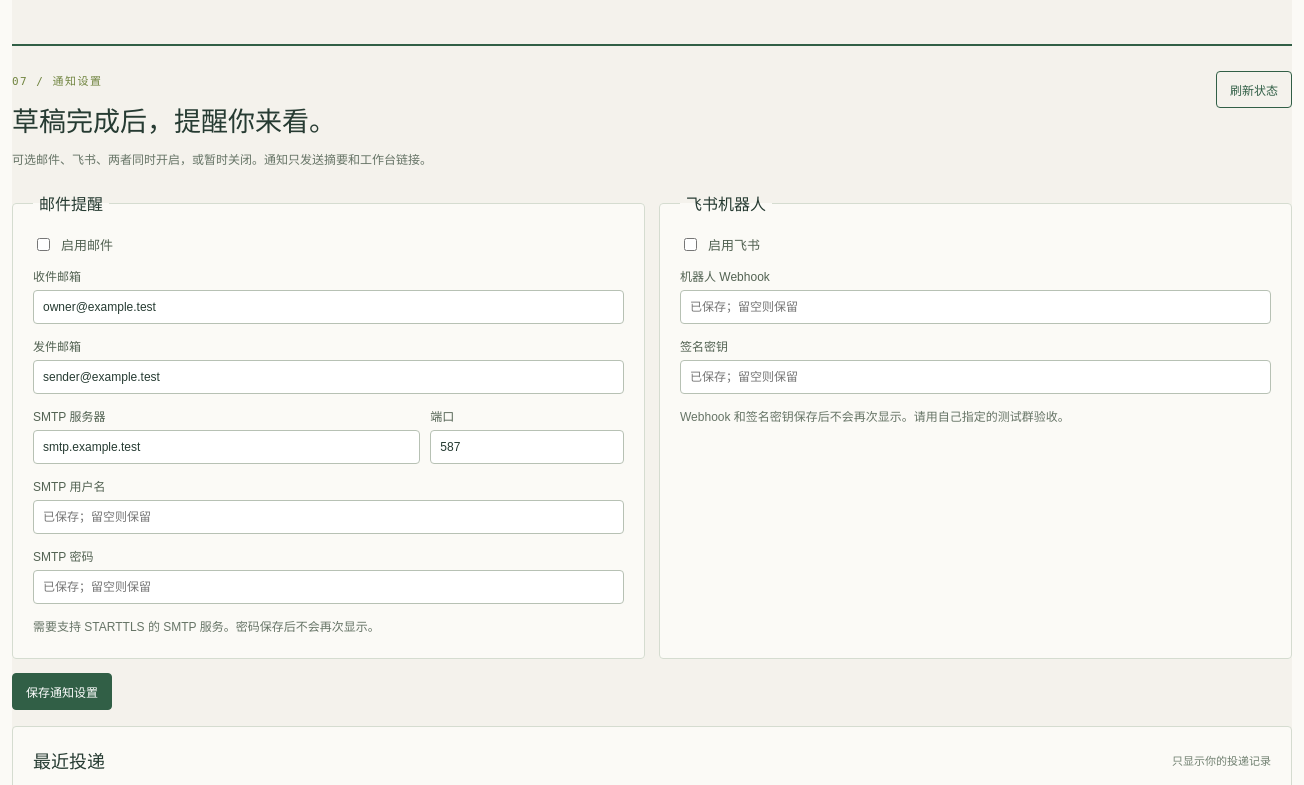
Test: notification settings › preserves existing credentials when blank and clears new secrets after saving
Step 1. Click the checkbox labelled "启用邮件" → click(44, 245), box top-left (37, 238), bottom-right (50, 251)
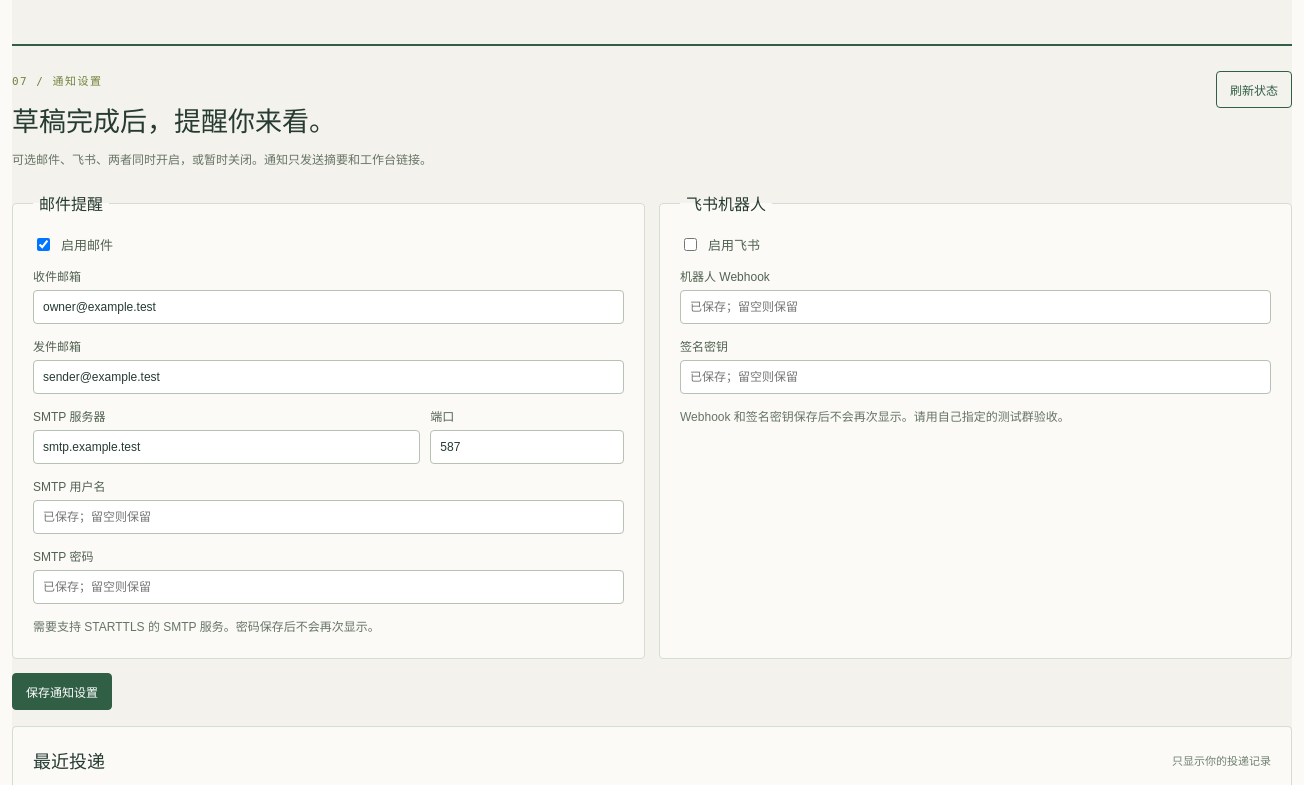
Step 2. Type "replacement-password" into the password field labelled "SMTP 密码" → (328, 587), box top-left (33, 570), bottom-right (624, 604)
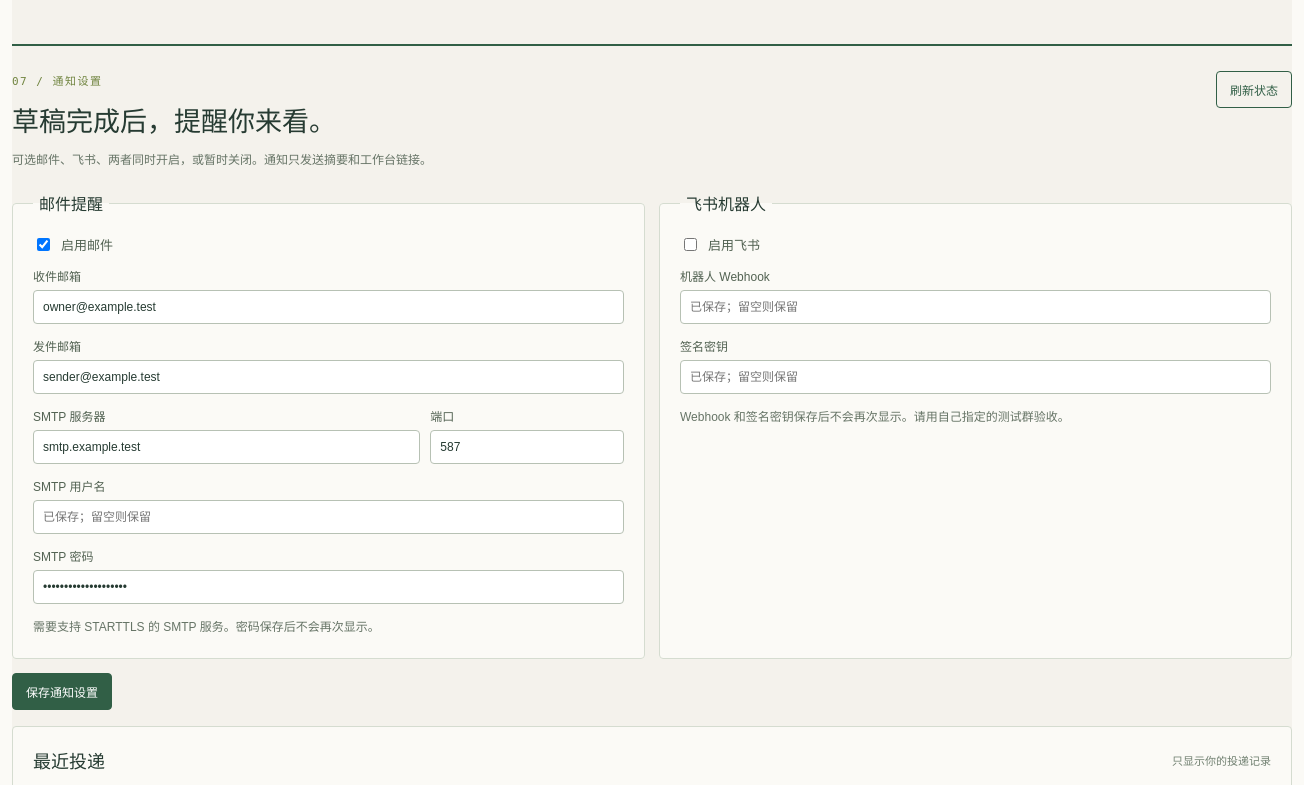
Step 3. Submit the form
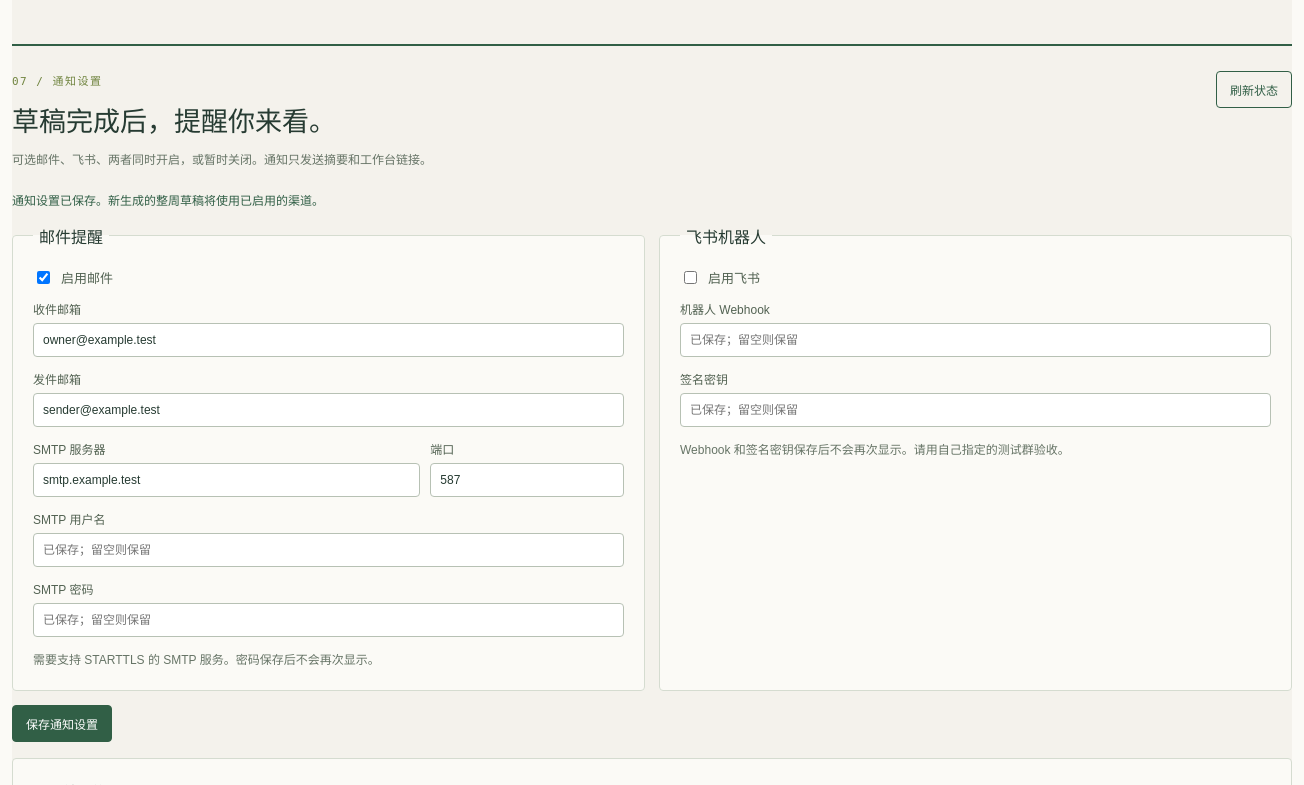
Result: the password field labelled "SMTP 密码" is empty at top-left (33, 603), bottom-right (624, 637)
Result: the message "通知设置已保存。新生成的整周草稿将使用已启用的渠道。" is shown at top-left (12, 194), bottom-right (324, 208)
